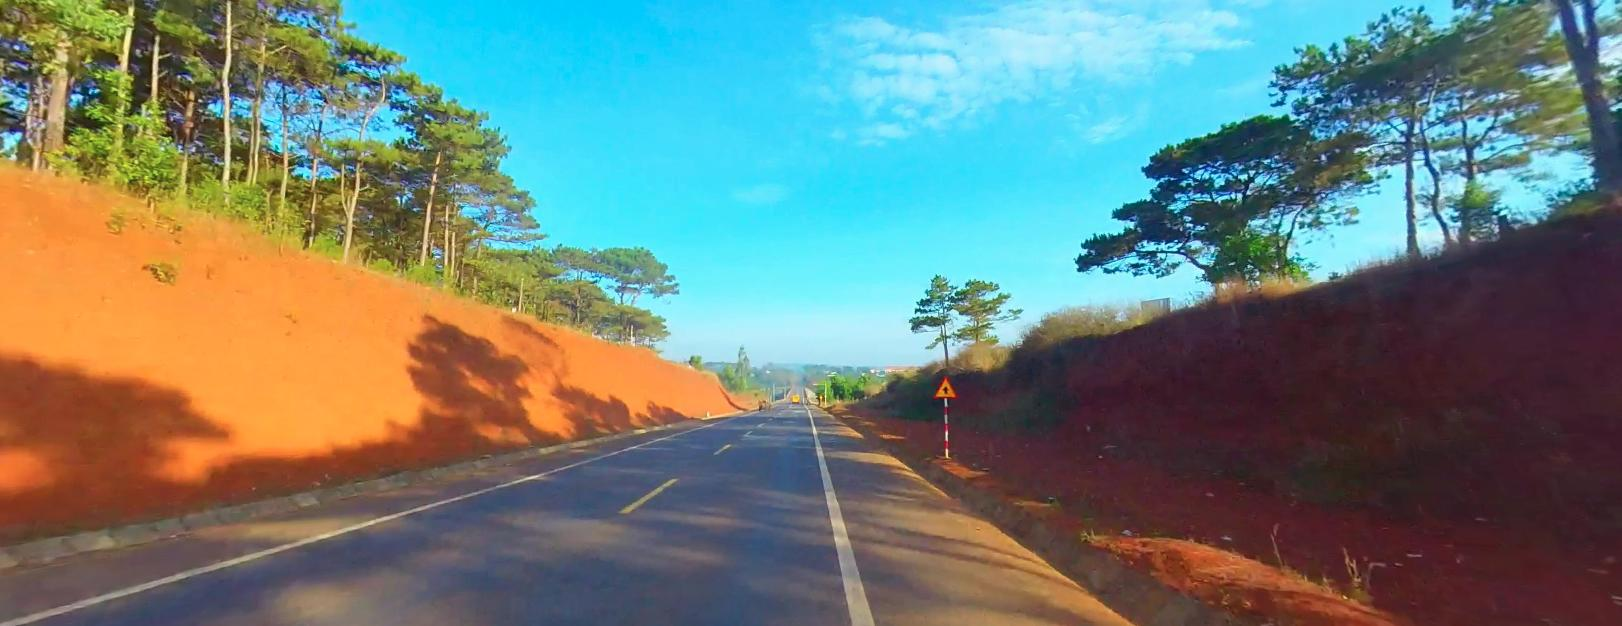Nguy hiem: (933, 374, 956, 397)
